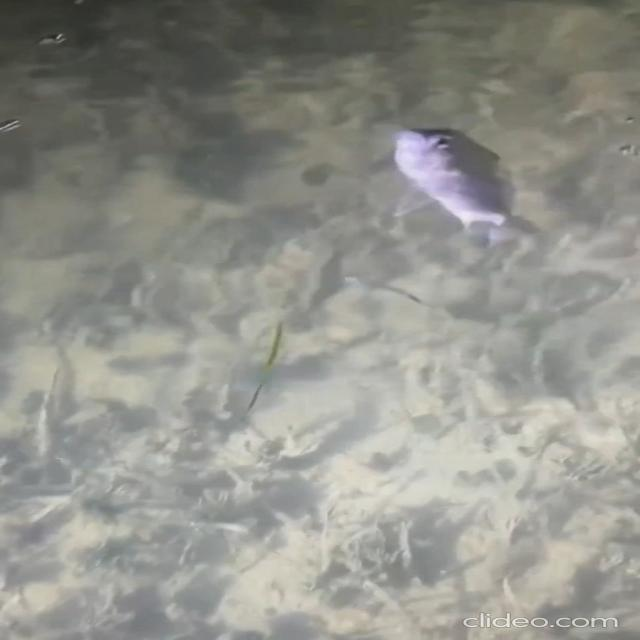fish: (396, 90, 567, 297)
